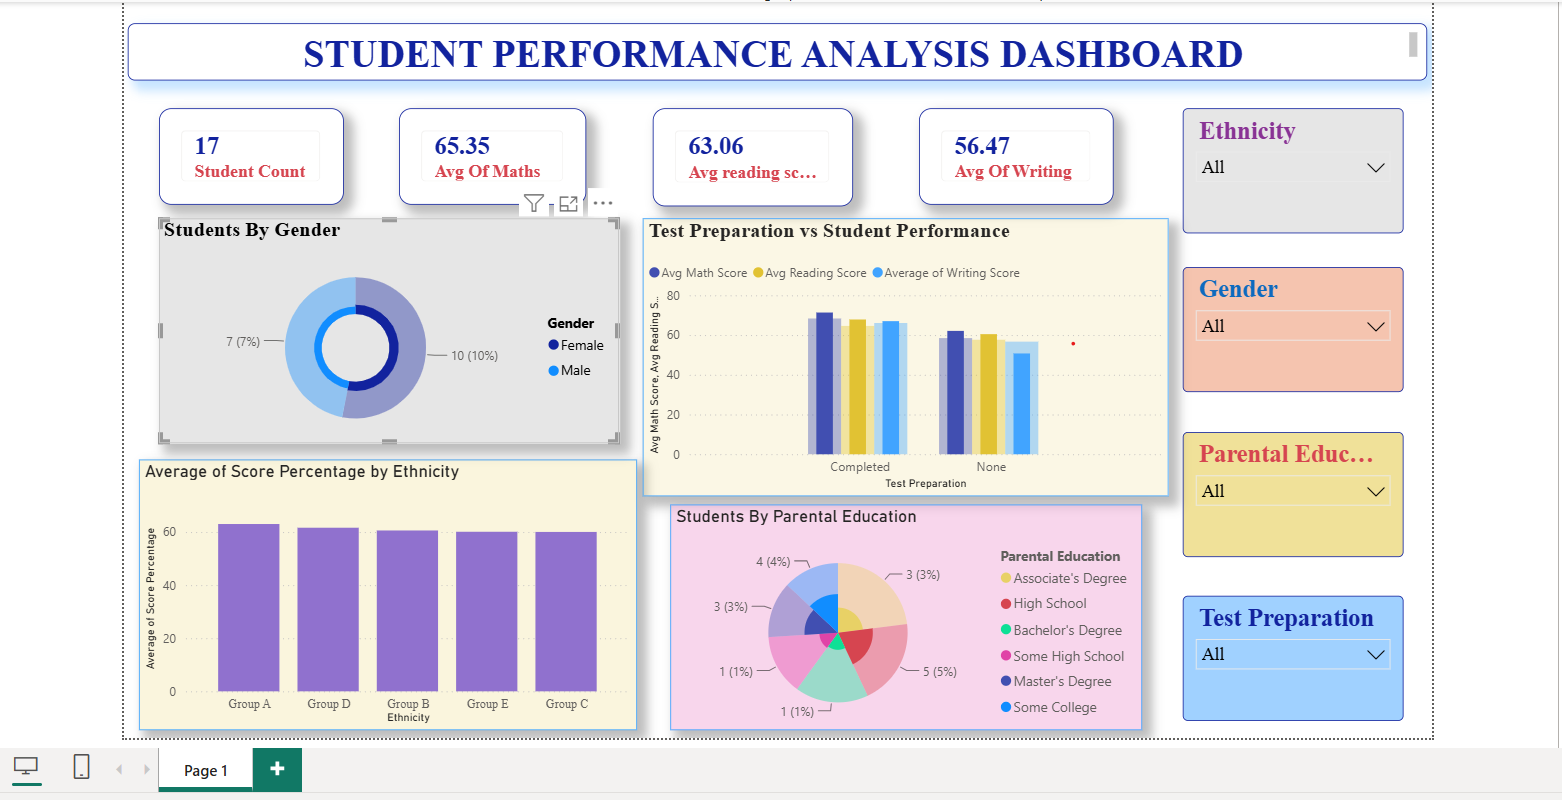

What the dashboard file says about the page in this screenshot:
{"tool":"powerbi","page":{"name":"Page 1","canvas":[1280,720],"ordinal":0},"visuals":[{"type":"textbox","box":[4,21,1271,56],"z":0},{"type":"cardVisual","fields":{"Data":["CountNonNull(MARKS.Student ID)"]},"box":[33.8,104.2,180.6,94],"z":1000},{"type":"cardVisual","fields":{"Data":["Avg(MARKS.Math Score)"]},"box":[269,104.2,183.6,94],"z":2000},{"type":"cardVisual","fields":{"Data":["Avg(MARKS.Writing Score)"]},"box":[777.5,104.2,190,94],"z":3000},{"type":"cardVisual","fields":{"Data":["Avg(MARKS.Reading Score)"]},"box":[516.9,104.2,195.8,95.8],"z":4000},{"type":"slicer","fields":{"Values":["MARKS.Ethnicity"]},"box":[1035.2,104.2,216.2,122.5],"z":5000},{"type":"slicer","fields":{"Values":["MARKS.Gender"]},"box":[1035.2,259.2,216.2,122.5],"z":6000},{"type":"slicer","fields":{"Values":["MARKS.Parental Education"]},"box":[1035.2,421.1,216.2,122.5],"z":7000},{"type":"columnChart","fields":{"Category":["MARKS.Ethnicity"],"Y":["Sum(MARKS.Score Percentage)"]},"box":[14.1,447.9,487.3,264.8],"z":8000},{"type":"donutChart","title":"Student By Gender","fields":{"Category":["MARKS.Gender"],"Y":["CountNonNull(MARKS.Student ID)"]},"box":[33.8,211.3,451,221],"z":9000},{"type":"clusteredColumnChart","title":"Test Preparation vs Student Performance","fields":{"Category":["MARKS.Test Preparation"],"Y":["Avg(MARKS.Math Score)","Avg(MARKS.Reading Score)","Avg(MARKS.Writing Score)"]},"box":[507,211.3,514.1,271.8],"z":10000},{"type":"slicer","fields":{"Values":["MARKS.Test Preparation"]},"box":[1035.2,580.3,216.2,122.5],"z":12000},{"type":"pieChart","fields":{"Category":["MARKS.Parental Education"],"Y":["CountNonNull(MARKS.Student ID)"]},"box":[533.8,491.5,462,221.1],"z":12001}]}

Visuals, with their boxes on the page's 1280x720 design canvas (x1, y1, x2, y2). These are canvas units, not pixel positions in the 1562x800 screenshot, which may show the page scaled, cropped or inside an application window:
textbox: x1=4 y1=21 x2=1275 y2=77
cardVisual - CountNonNull(MARKS.Student ID): x1=34 y1=104 x2=214 y2=198
cardVisual - Avg(MARKS.Math Score): x1=269 y1=104 x2=453 y2=198
cardVisual - Avg(MARKS.Writing Score): x1=778 y1=104 x2=968 y2=198
cardVisual - Avg(MARKS.Reading Score): x1=517 y1=104 x2=713 y2=200
slicer - MARKS.Ethnicity: x1=1035 y1=104 x2=1251 y2=227
slicer - MARKS.Gender: x1=1035 y1=259 x2=1251 y2=382
slicer - MARKS.Parental Education: x1=1035 y1=421 x2=1251 y2=544
columnChart - MARKS.Ethnicity x Sum(MARKS.Score Percentage): x1=14 y1=448 x2=501 y2=713
"Student By Gender" donutChart: x1=34 y1=211 x2=485 y2=432
"Test Preparation vs Student Performance" clusteredColumnChart: x1=507 y1=211 x2=1021 y2=483
slicer - MARKS.Test Preparation: x1=1035 y1=580 x2=1251 y2=703
pieChart - MARKS.Parental Education x CountNonNull(MARKS.Student ID): x1=534 y1=492 x2=996 y2=713
